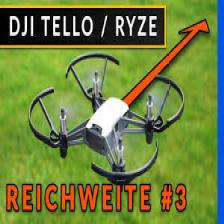drone: (27, 52, 185, 177)
